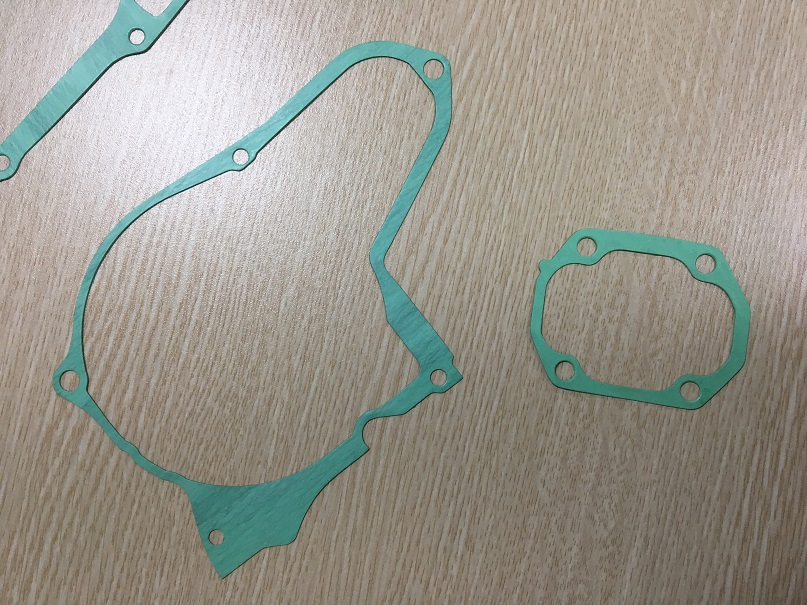type1: (48, 37, 477, 588)
type2: (518, 219, 758, 414)
